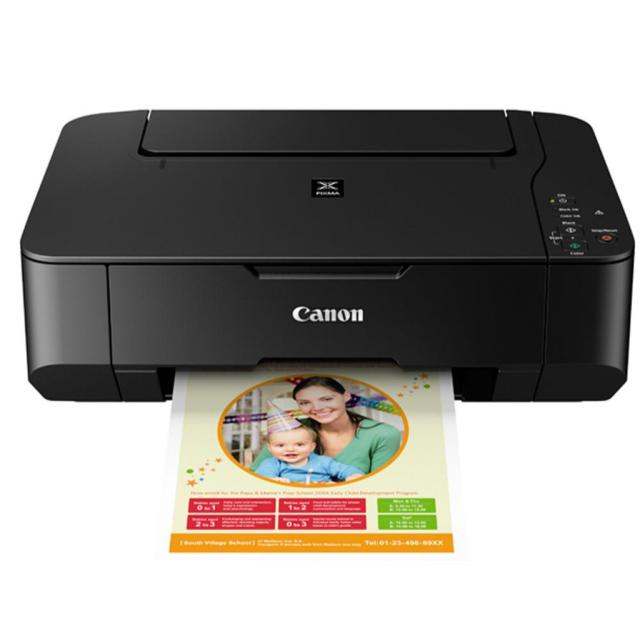printer: (6, 101, 640, 421)
